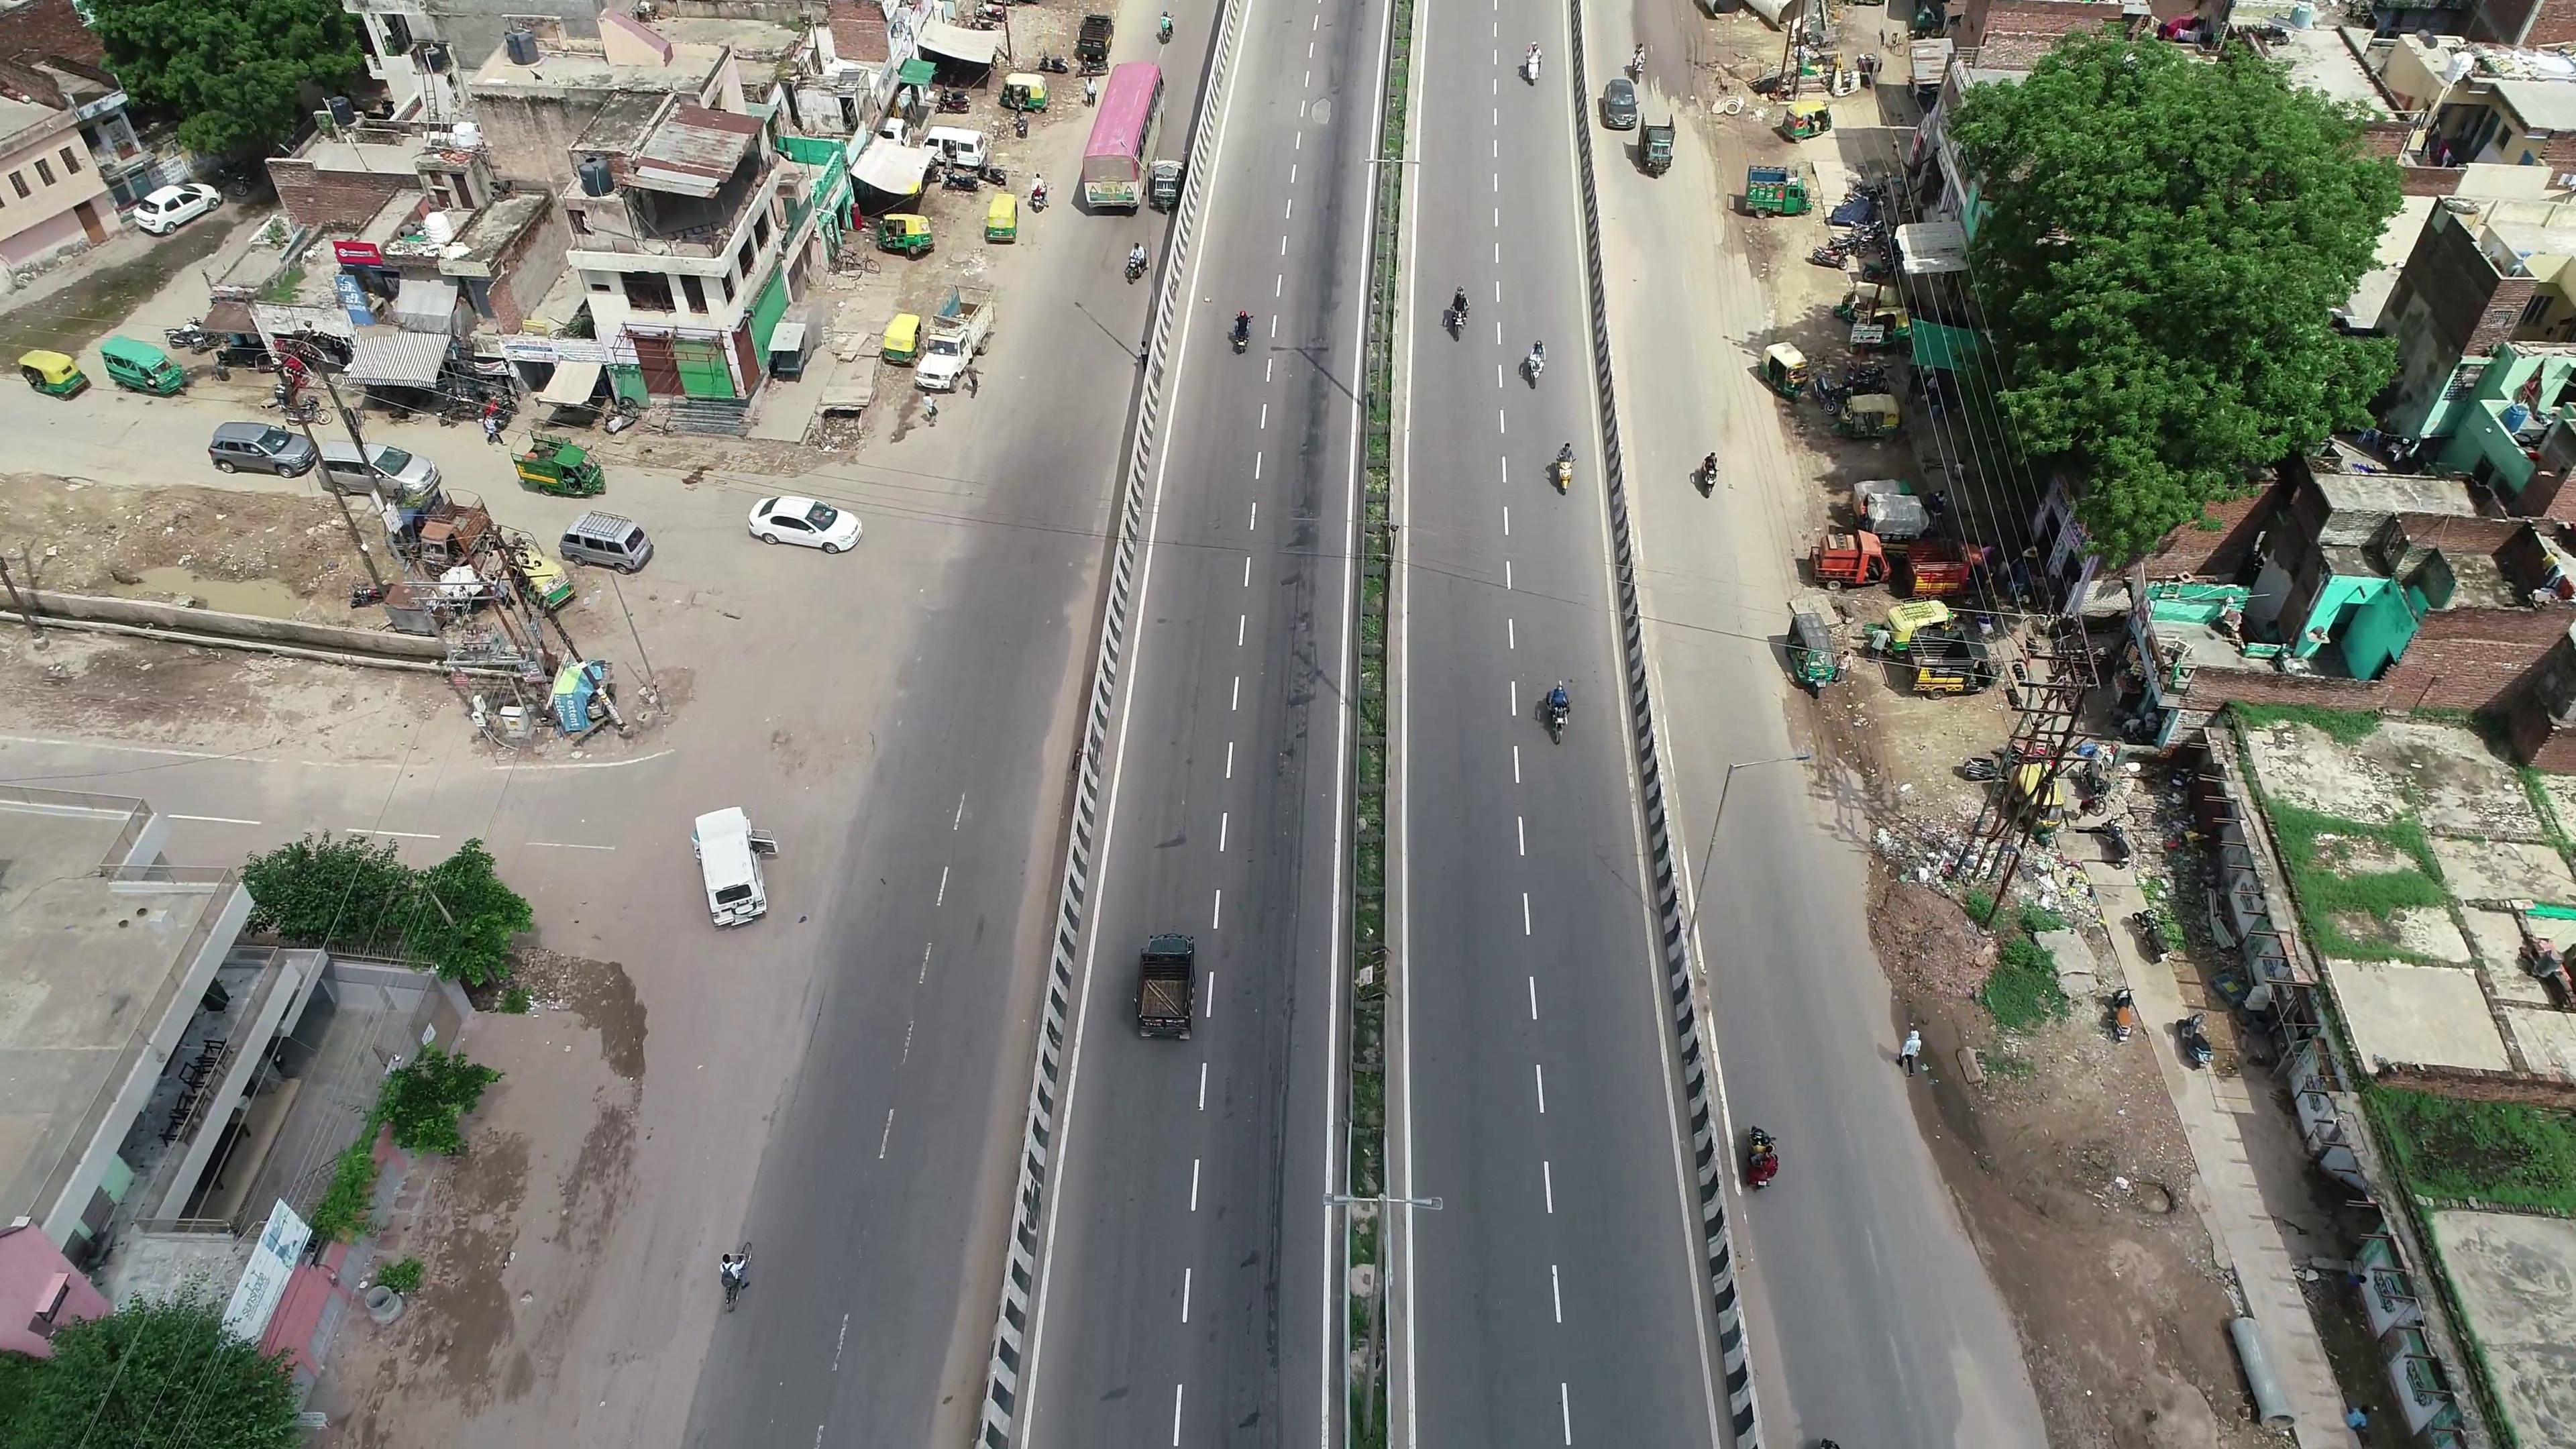Potholes: (1299, 76, 1345, 138)
